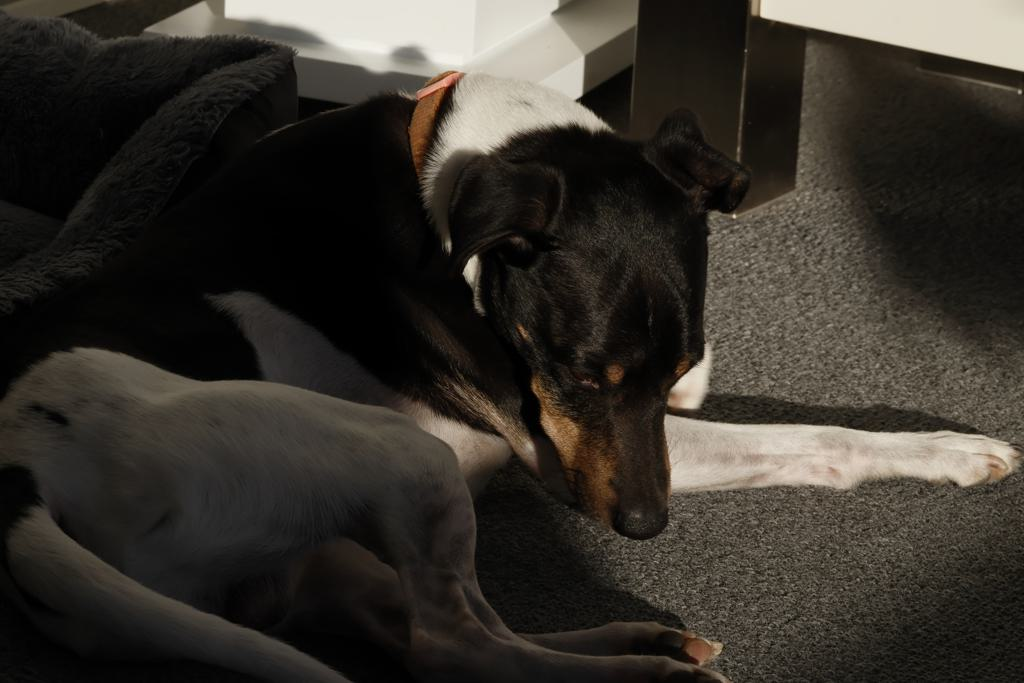Dog: (0, 63, 1024, 683)
